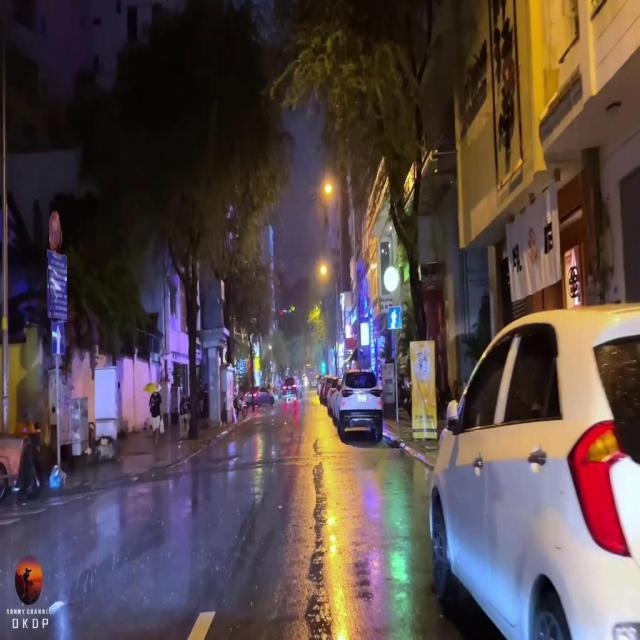407a-duong-mot-chieu: (51, 322, 64, 354), (388, 306, 402, 330)
